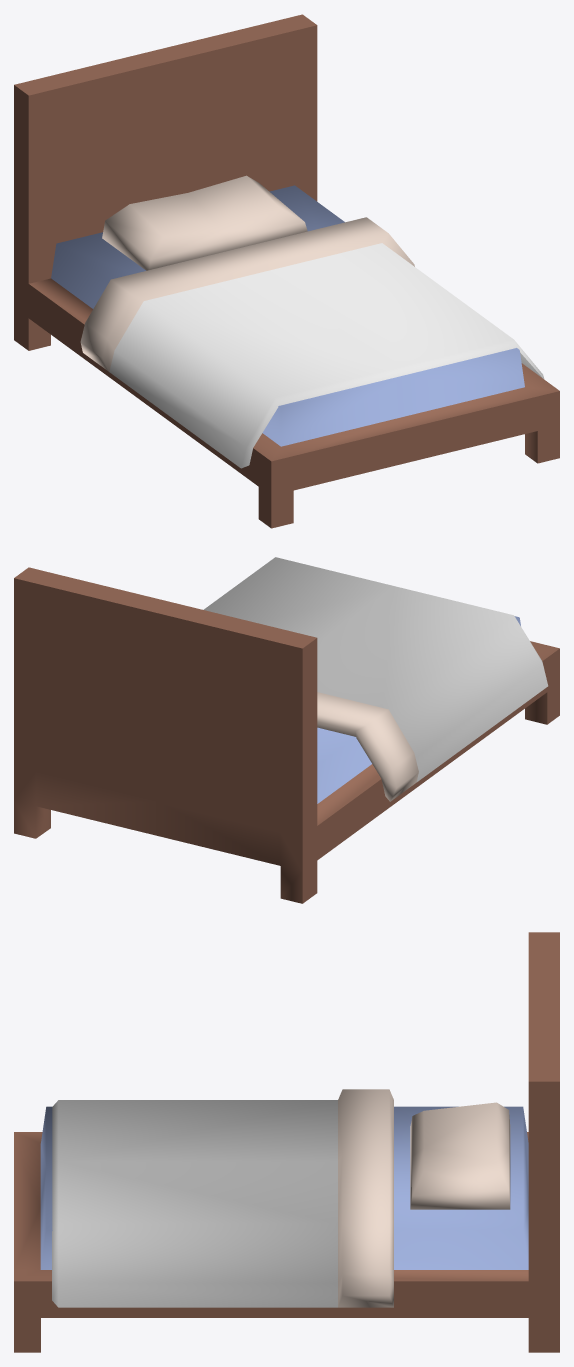
Rendered from bed.fbx.
3 views of the same model, one above another, from view 1: azimuth 30°, elevation 25°; view 2: azimuth 150°, elevation 25°; view 3: azimuth 270°, elevation 25° (orthographic). The views are drawn at different scales.
Parts seen in each view (by area): view 1: bed; view 2: bed; view 3: bed.
Part boxes in pixels (box(x1,y1,x2,y2)): bed: box(14, 14, 559, 528); bed: box(14, 557, 559, 903); bed: box(14, 932, 559, 1352).
Size of the model in its own units: 3.89 by 3 by 5.48.
